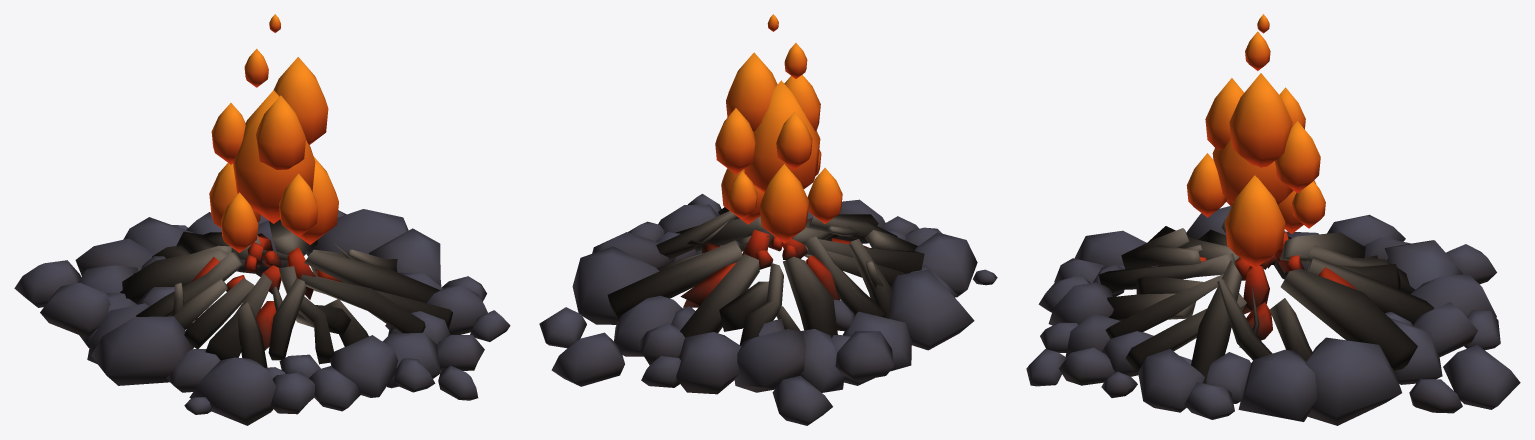
File: mt-fireplace01.fbx
3 views of the same model, side by side, from view 1: azimuth 30°, elevation 25°; view 2: azimuth 150°, elevation 25°; view 3: azimuth 270°, elevation 25° (orthographic). The views are drawn at different scales.
Parts seen in each view (by area): view 1: Cube.046; view 2: Cube.046; view 3: Cube.046.
Part boxes in pixels (x1,y1,x2,y2): Cube.046: [14, 14, 510, 425]; Cube.046: [539, 14, 997, 425]; Cube.046: [1026, 14, 1520, 425].
Bounding box in the file's own units: 504 × 427 × 561.
Materials: 1 (1 with a texture image).
